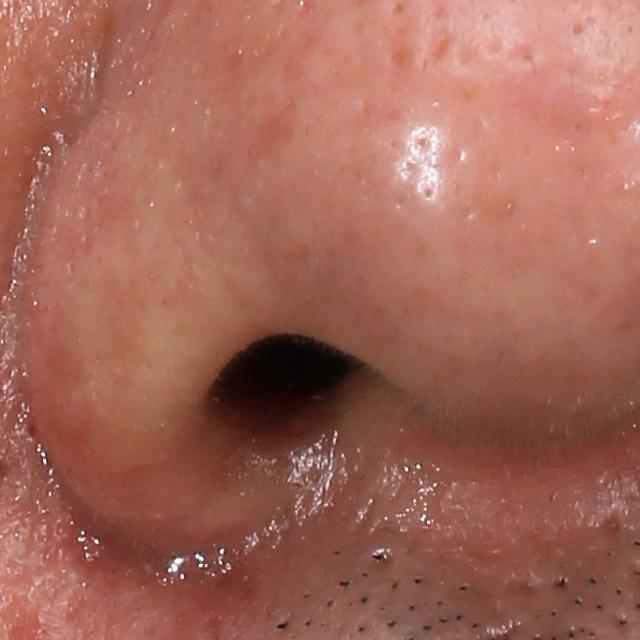atrophic_scar: (424, 23, 462, 72), (597, 509, 628, 545)
comedo: (388, 0, 408, 21), (565, 17, 585, 37)
